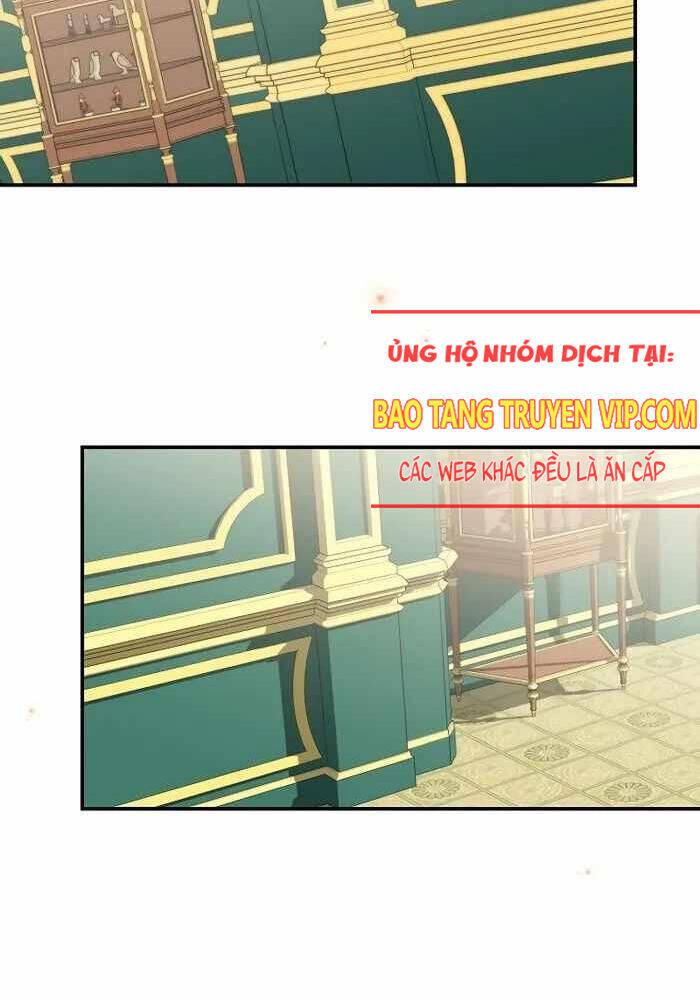quangcao: (361, 311, 700, 509)
